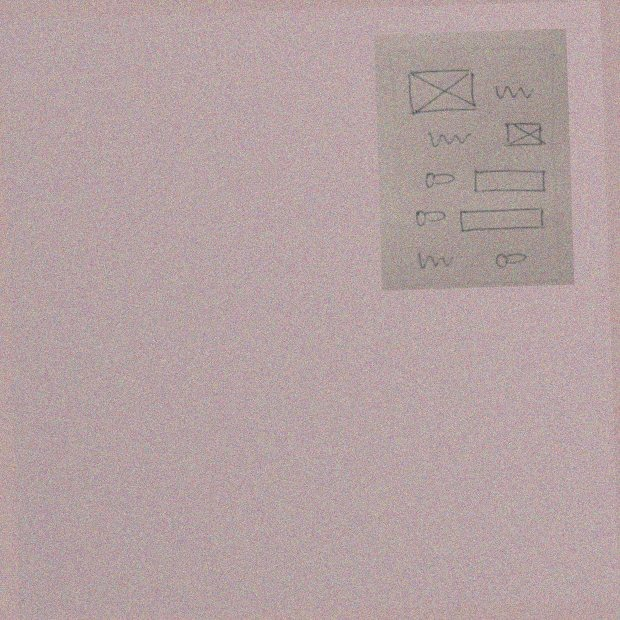image: (404, 65, 480, 121), (501, 117, 549, 155)
switch: (491, 244, 530, 273), (419, 166, 458, 194), (413, 207, 452, 235)
text: (422, 125, 475, 153), (491, 78, 535, 107), (414, 247, 459, 274)
text_input: (455, 201, 549, 236), (470, 163, 549, 198)
